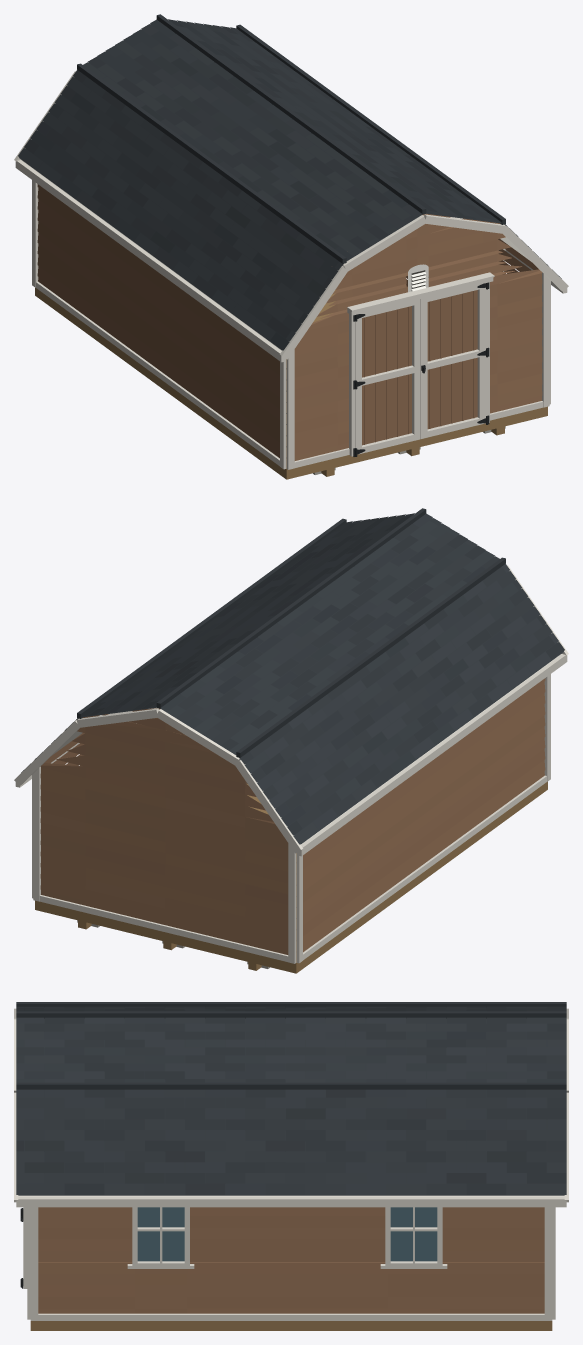
File: 06-elite-lofted-barn.glb
The picture shows the model from 3 angles, top to bottom: view 1: azimuth 30°, elevation 25°; view 2: azimuth 150°, elevation 25°; view 3: azimuth 270°, elevation 25°; orthographic projection. The views are drawn at different scales.
Visible parts, largest first — view 1: Main roof, left wall, front wall, front wall double, Floor platform and skids, right wall; view 2: Main roof, rear wall, left wall, Floor platform and skids, right wall; view 3: Main roof, right wall, right wall window, Floor platform and skids, front wall double, front wall, rear wall.
Boxes of the visible parts, box(x1,y1,x2,y2) form: Main roof: box(14, 14, 568, 362); left wall: box(32, 180, 286, 469); front wall: box(286, 213, 549, 469); front wall double: box(347, 272, 494, 456); Floor platform and skids: box(35, 287, 547, 479); right wall: box(406, 239, 550, 404); Main roof: box(14, 508, 568, 856); rear wall: box(33, 708, 296, 963); left wall: box(296, 674, 550, 963); Floor platform and skids: box(35, 781, 547, 973); right wall: box(32, 718, 157, 898); Main roof: box(14, 1002, 568, 1207); right wall: box(30, 1207, 552, 1320); right wall window: box(127, 1207, 447, 1268); Floor platform and skids: box(30, 1321, 552, 1330); front wall double: box(20, 1207, 27, 1288); front wall: box(27, 1207, 30, 1319); rear wall: box(552, 1207, 555, 1319).
Bounding box in the file's own units: 4.01 × 3.38 × 6.49.
